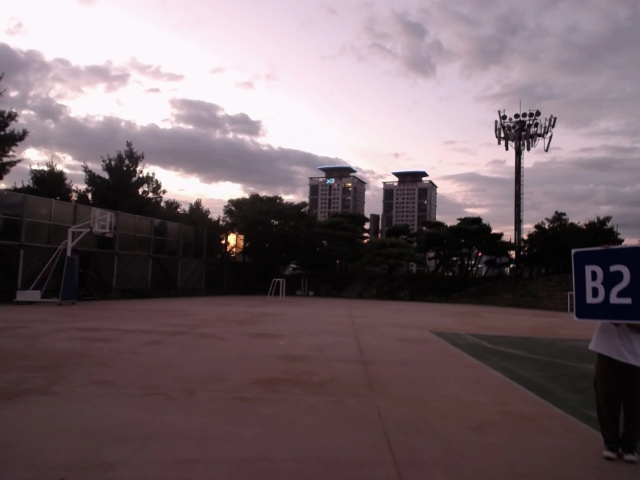delivery_b2: (572, 247, 639, 323)
